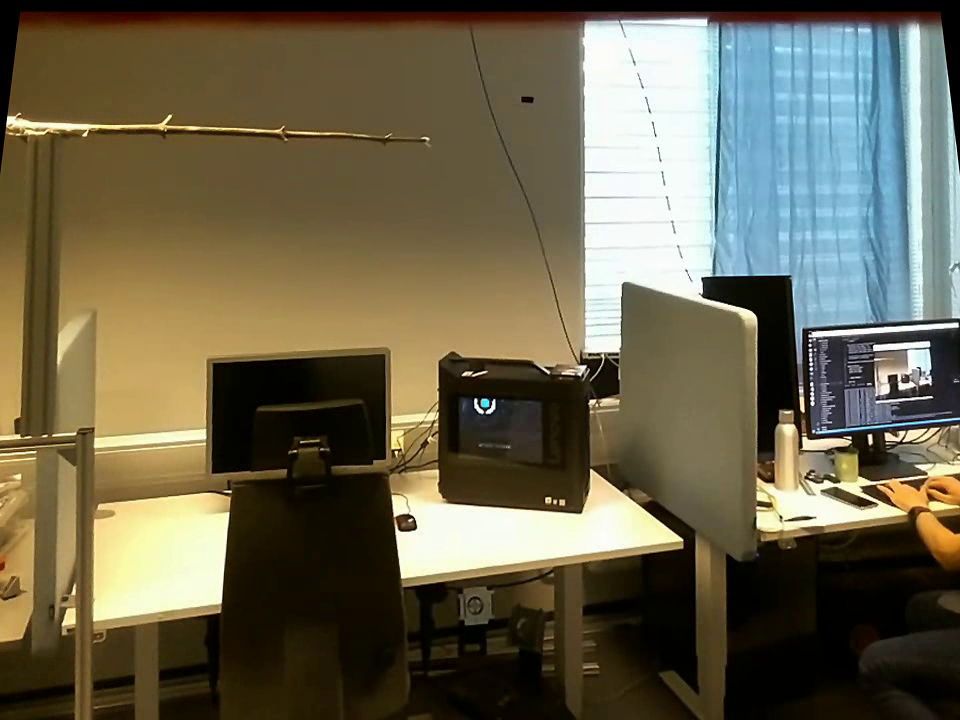aluminum_frame: (12, 133, 71, 436), (72, 425, 94, 717), (0, 423, 78, 456)
branch: (97, 107, 421, 151)
